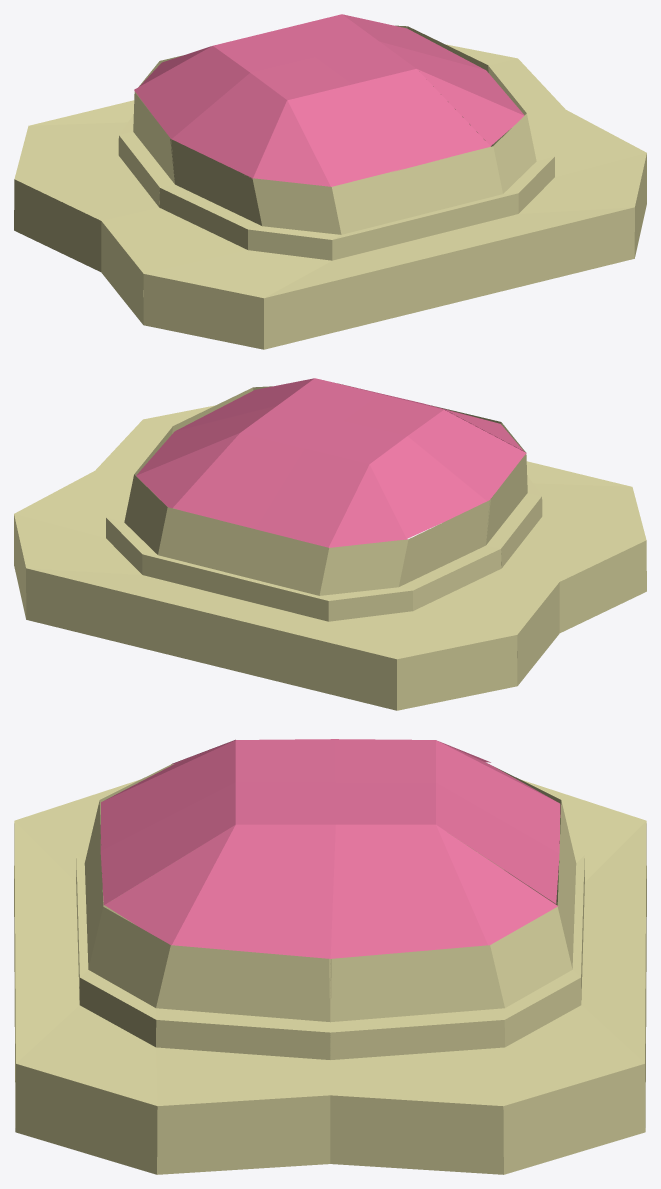
File: bomb.fbx
The picture shows the model from 3 angles, top to bottom: view 1: azimuth 30°, elevation 25°; view 2: azimuth 150°, elevation 25°; view 3: azimuth 270°, elevation 25°; orthographic projection. The views are drawn at different scales.
Visible parts, largest first — view 1: Plane, Plane.001; view 2: Plane, Plane.001; view 3: Plane, Plane.001.
Part boxes in pixels (box(x1,y1,x2,y2)): Plane: box(14, 25, 646, 349); Plane.001: box(134, 14, 524, 186); Plane: box(14, 384, 646, 710); Plane.001: box(136, 378, 526, 547); Plane: box(14, 764, 646, 1174); Plane.001: box(100, 739, 560, 958).
Bounding box in the file's own units: 450 × 141 × 365.
